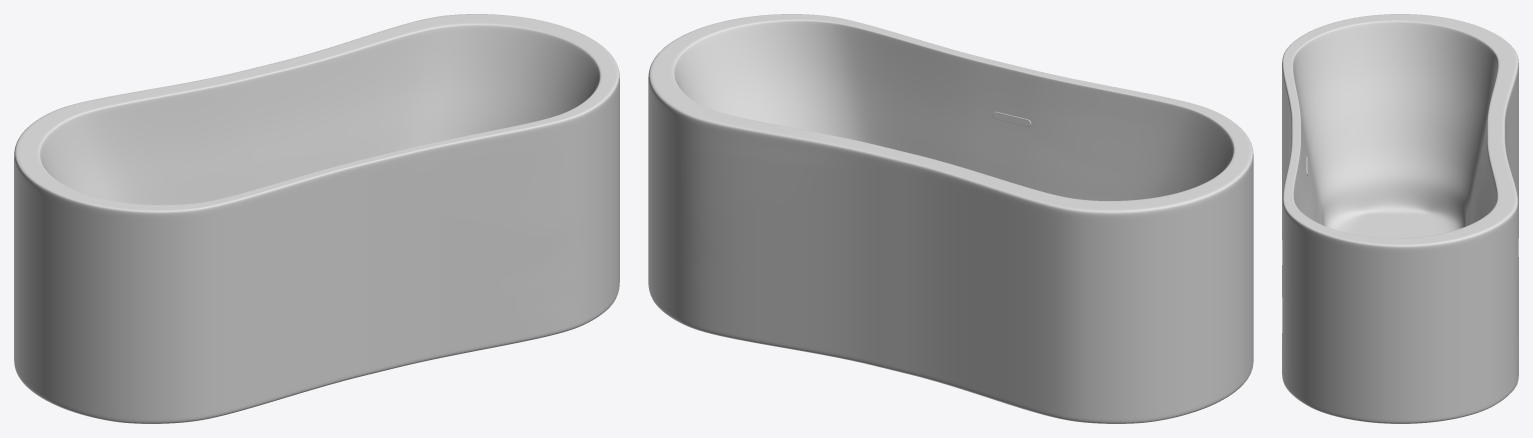
File: Bathtub_007.gltf
The picture shows the model from 3 angles, left to right: view 1: azimuth 30°, elevation 25°; view 2: azimuth 150°, elevation 25°; view 3: azimuth 270°, elevation 25°; orthographic projection. The views are drawn at different scales.
Visible parts, largest first — view 1: Bathtub_007; view 2: Bathtub_007; view 3: Bathtub_007.
Part boxes in pixels (bbox=[...]): Bathtub_007: bbox=[14, 14, 619, 423]; Bathtub_007: bbox=[648, 14, 1253, 423]; Bathtub_007: bbox=[1282, 14, 1518, 423].
Size of the model in its own units: 16.88 by 6.18 by 7.26.
1 material, 1 textured.
